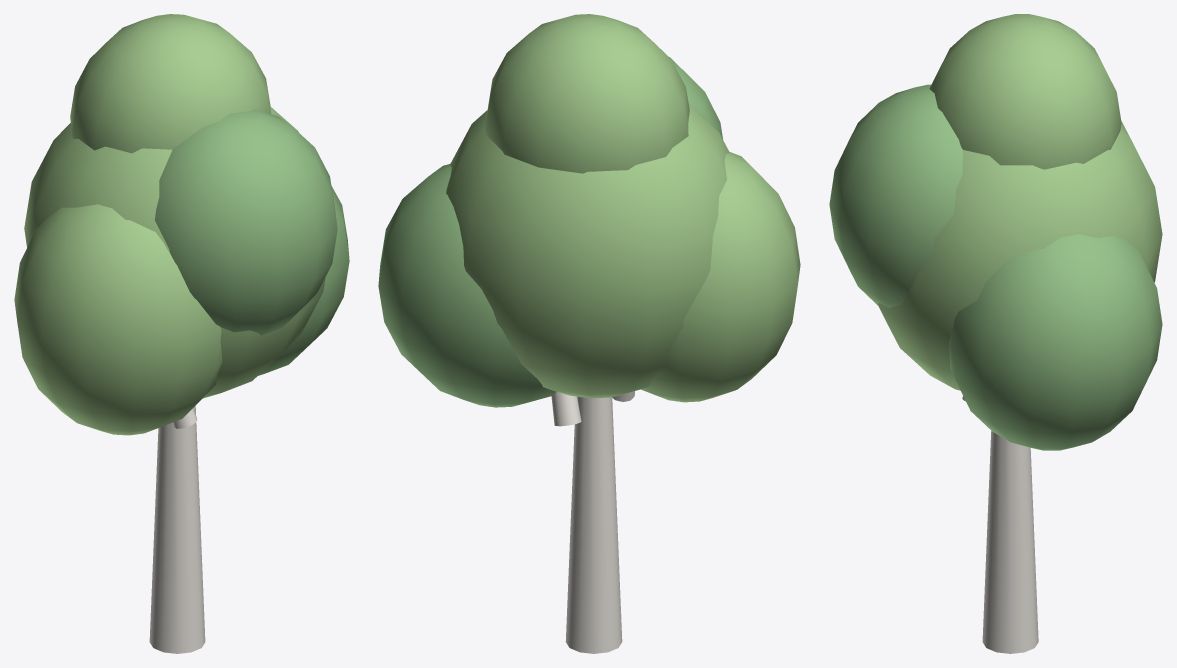
File: Tree_Realistic_Birch.fbx
3 renders of one model, left to right at view 1: azimuth 30°, elevation 25°; view 2: azimuth 150°, elevation 25°; view 3: azimuth 270°, elevation 25°, orthographic.
Parts seen in each view (by area): view 1: Tree_Realistic_Birch; view 2: Tree_Realistic_Birch; view 3: Tree_Realistic_Birch.
Part boxes in pixels (x1,y1,x2,y2): Tree_Realistic_Birch: (14, 14, 349, 653); Tree_Realistic_Birch: (378, 14, 800, 653); Tree_Realistic_Birch: (829, 14, 1162, 653).
Size of the model in its own units: 345 by 585 by 285.
